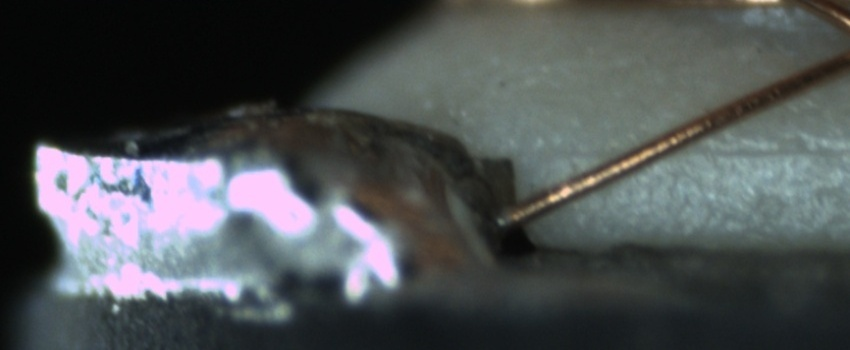DL: (544, 120, 850, 181)
